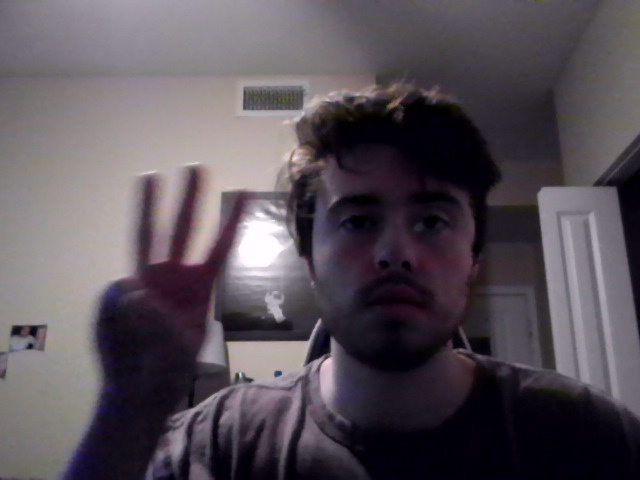w: (94, 162, 252, 438)
